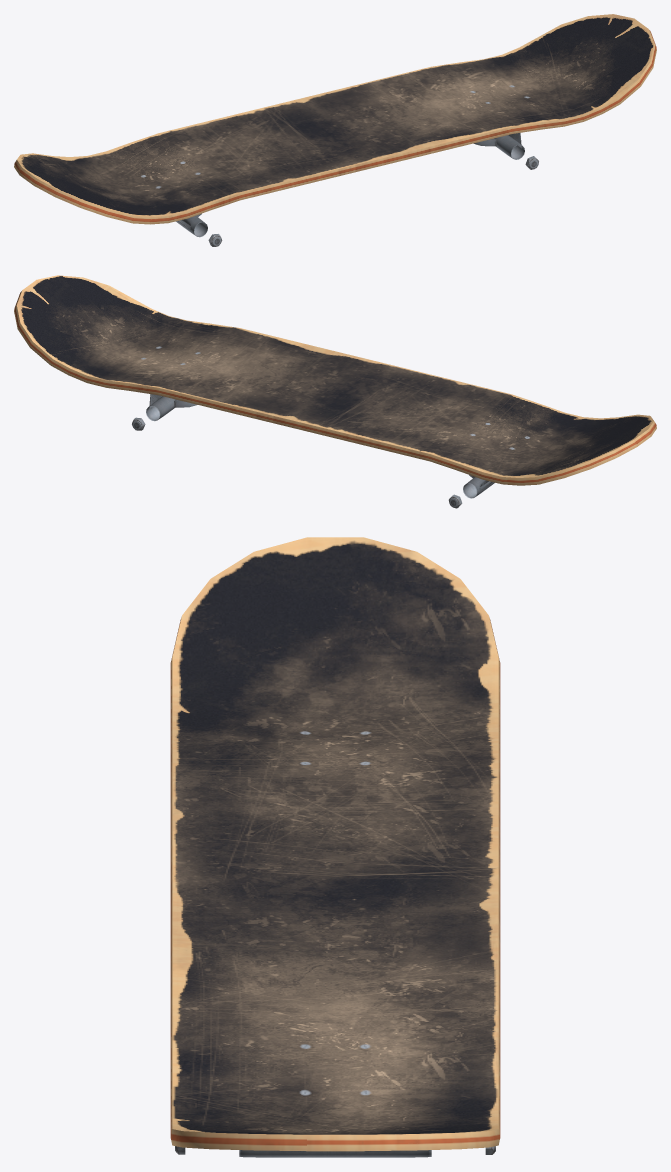
File: main_board.glb
The picture shows the model from 3 angles, top to bottom: view 1: azimuth 30°, elevation 25°; view 2: azimuth 150°, elevation 25°; view 3: azimuth 270°, elevation 25°; orthographic projection. The views are drawn at different scales.
Parts seen in each view (by area): view 1: 1_low.001__0, 2_low.001__0; view 2: 1_low.001__0, 2_low.001__0; view 3: 1_low.001__0, 2_low.001__0.
Boxes of the visible parts, <box> form: 1_low.001__0: <box>14,14,656,224</box>; 2_low.001__0: <box>176,133,538,246</box>; 1_low.001__0: <box>14,275,656,485</box>; 2_low.001__0: <box>132,394,494,508</box>; 1_low.001__0: <box>170,537,500,1151</box>; 2_low.001__0: <box>175,1146,495,1157</box>.
Size of the model in its own units: 1.42 by 0.1818 by 0.3286.
Materials: 1 (1 with a texture image).
